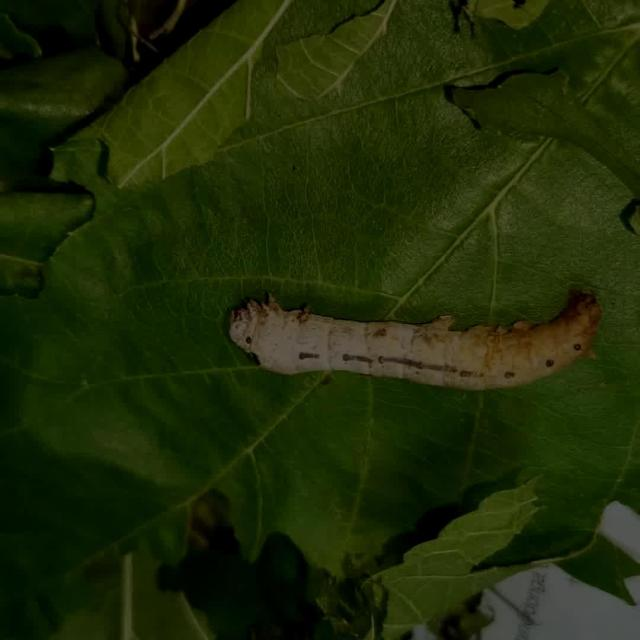Grasserie: (218, 275, 612, 406)
